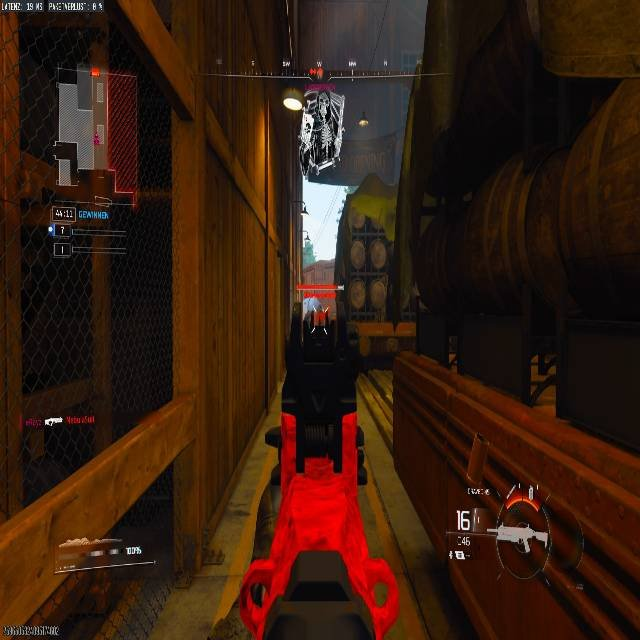player: (315, 301, 331, 339), (303, 297, 320, 329)
